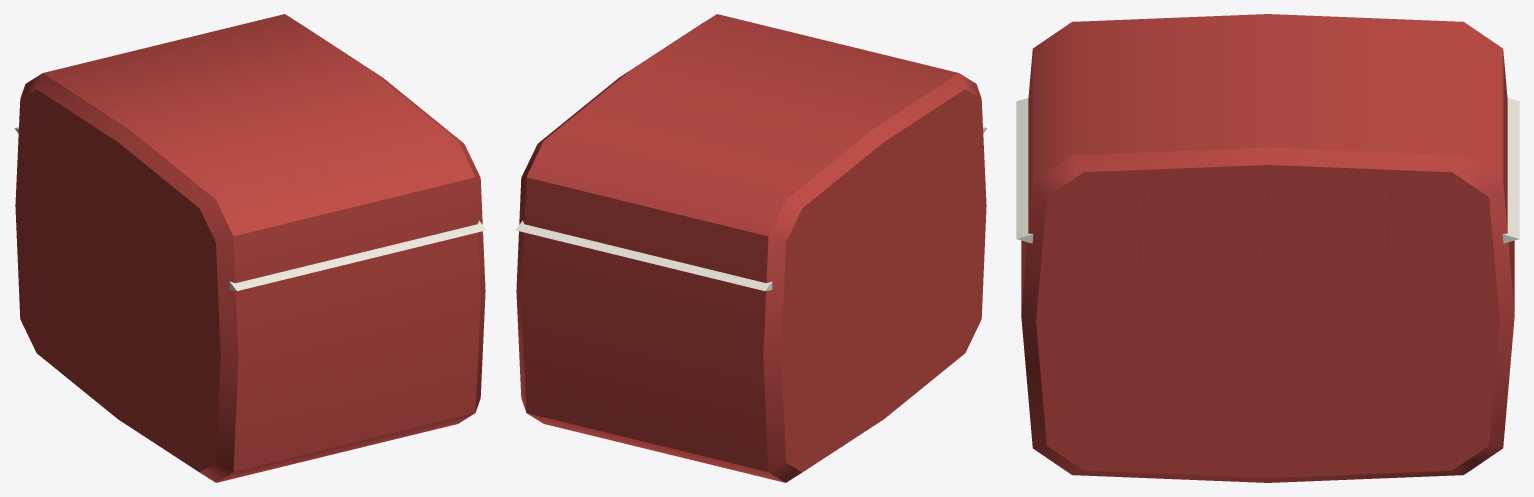
Rendered from airbox_lod1.glb.
The picture shows the model from 3 angles, left to right: view 1: azimuth 30°, elevation 25°; view 2: azimuth 150°, elevation 25°; view 3: azimuth 270°, elevation 25°; orthographic projection. The views are drawn at different scales.
Visible parts, largest first — view 1: airbox_lod1; view 2: airbox_lod1; view 3: airbox_lod1.
Part boxes in pixels (x1,y1,x2,y2): airbox_lod1: (14, 14, 486, 482); airbox_lod1: (515, 14, 987, 482); airbox_lod1: (1016, 14, 1519, 482).
Bounding box in the file's own units: 0.144 × 0.15 × 0.204.
